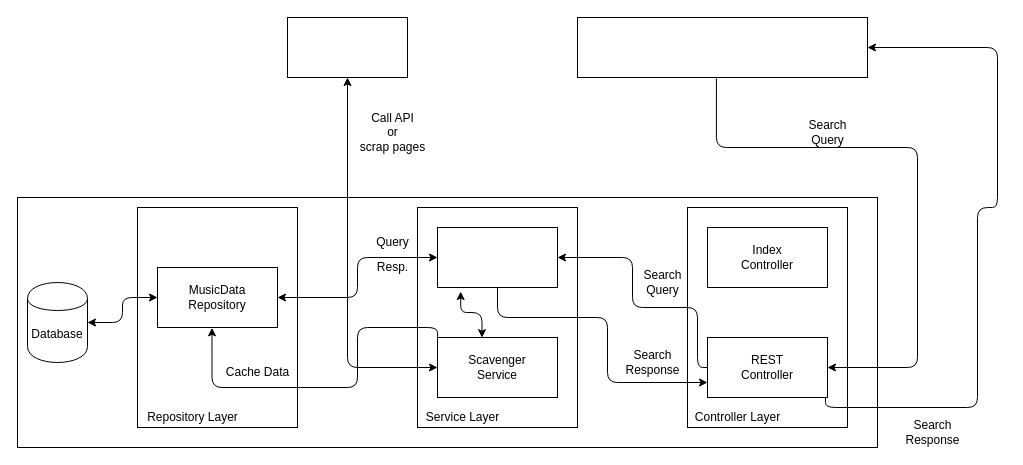
This 1023x465 diagram has some shape labels left out. The shapes that lost their labels are listed below. From the top down, each one's centre as x and y in pixels, then its label:
At pixel 347 47: "External Sources".
At pixel 722 47: "Client".
At pixel 497 257: "ElasticSearch Service".
